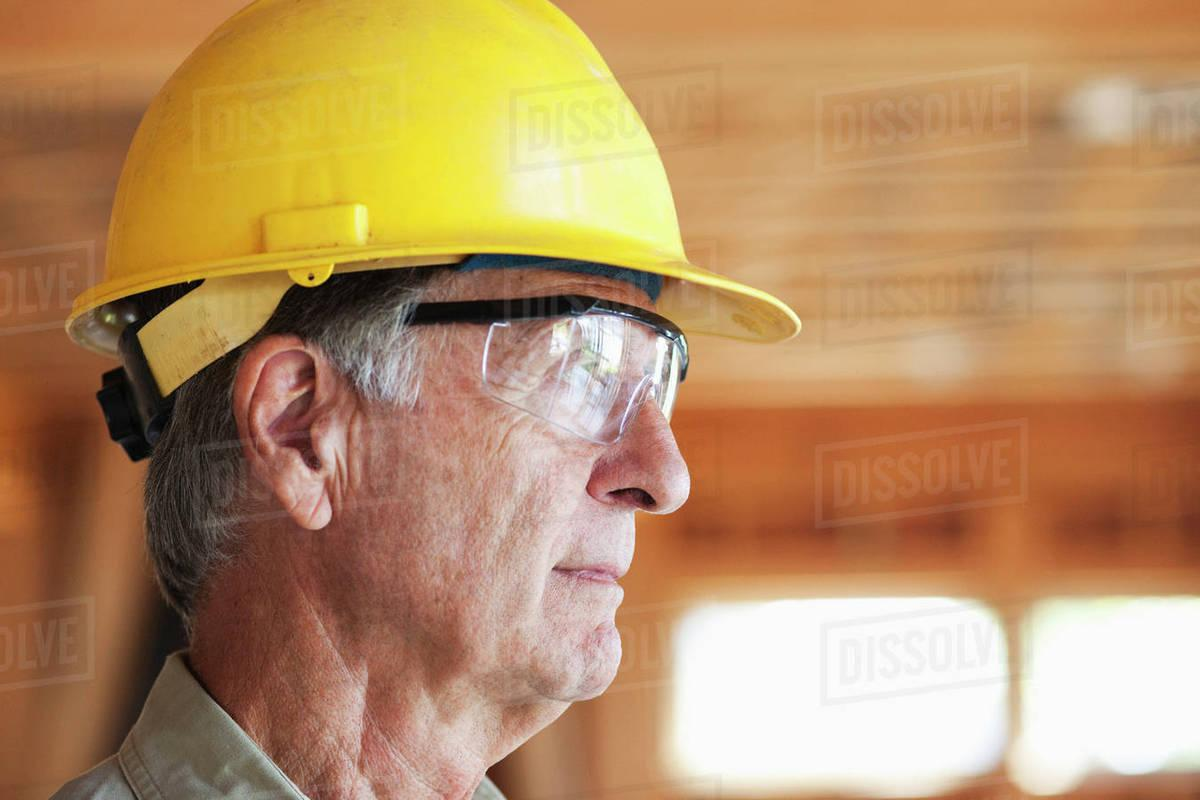helmet: (54, 2, 798, 411)
